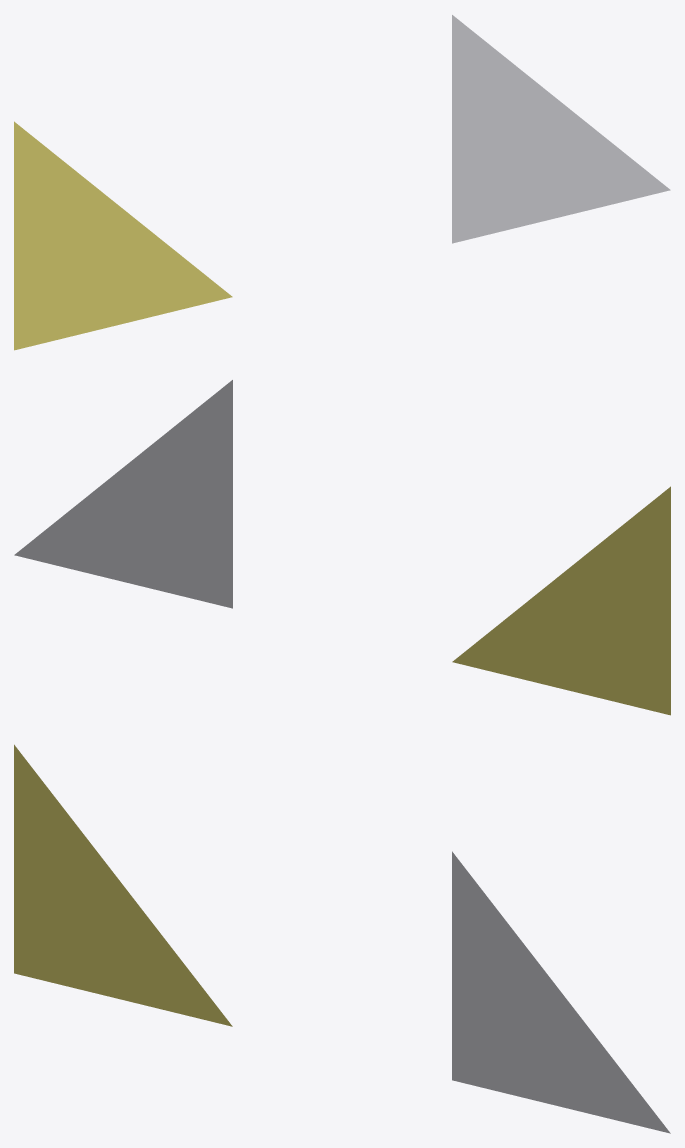
The model's file is two-materials.gltf.
3 views of the same model, one above another, from view 1: azimuth 30°, elevation 25°; view 2: azimuth 150°, elevation 25°; view 3: azimuth 330°, elevation 25° (orthographic).
Parts seen in each view (by area): view 1: TwoMaterials; view 2: TwoMaterials; view 3: TwoMaterials.
Part boxes in pixels (box(x1,y1,x2,y2)): TwoMaterials: box(14, 15, 670, 350); TwoMaterials: box(14, 380, 670, 715); TwoMaterials: box(14, 744, 670, 1133).
Size of the model in its own units: 3 by 1 by 0.
